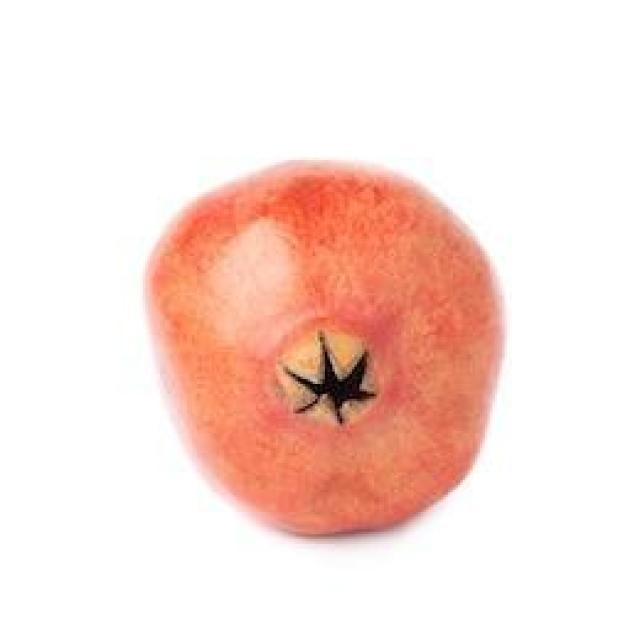Pomegranate: (140, 157, 509, 540)
